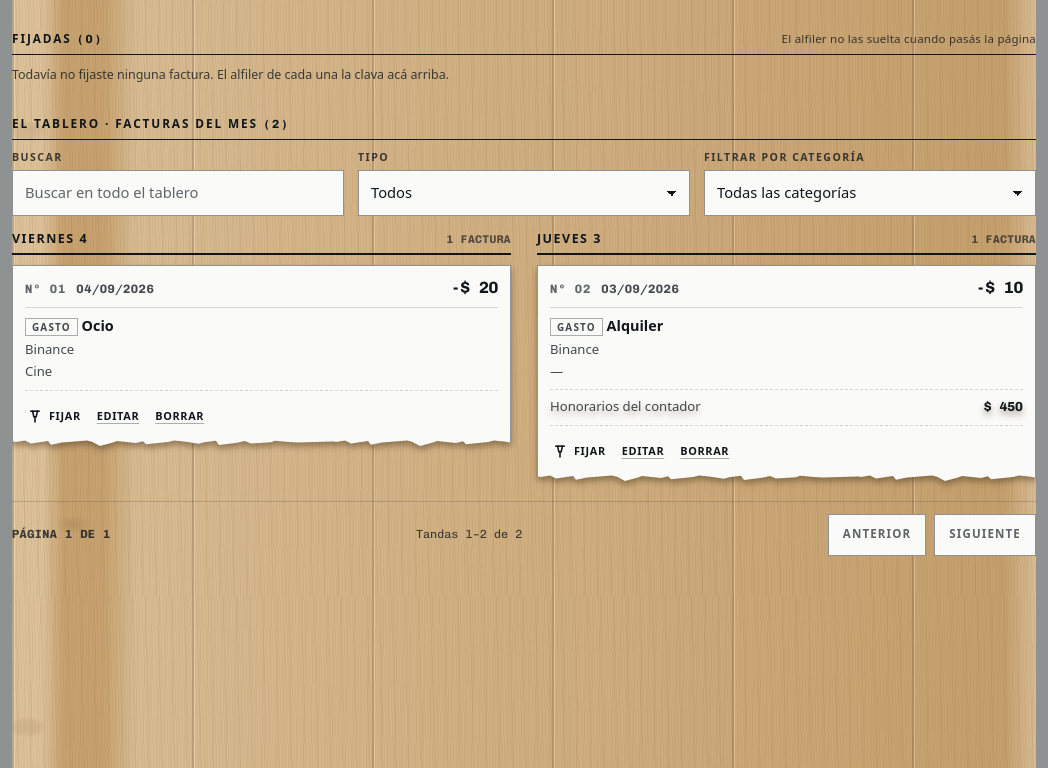
Test case: Board › finds a factura by the description of one of its detail lines
The image size is (1048, 768).
Type "contador" into the search field labelled "Buscar" at x=178, y=193, box left=12, top=170, right=344, bottom=216
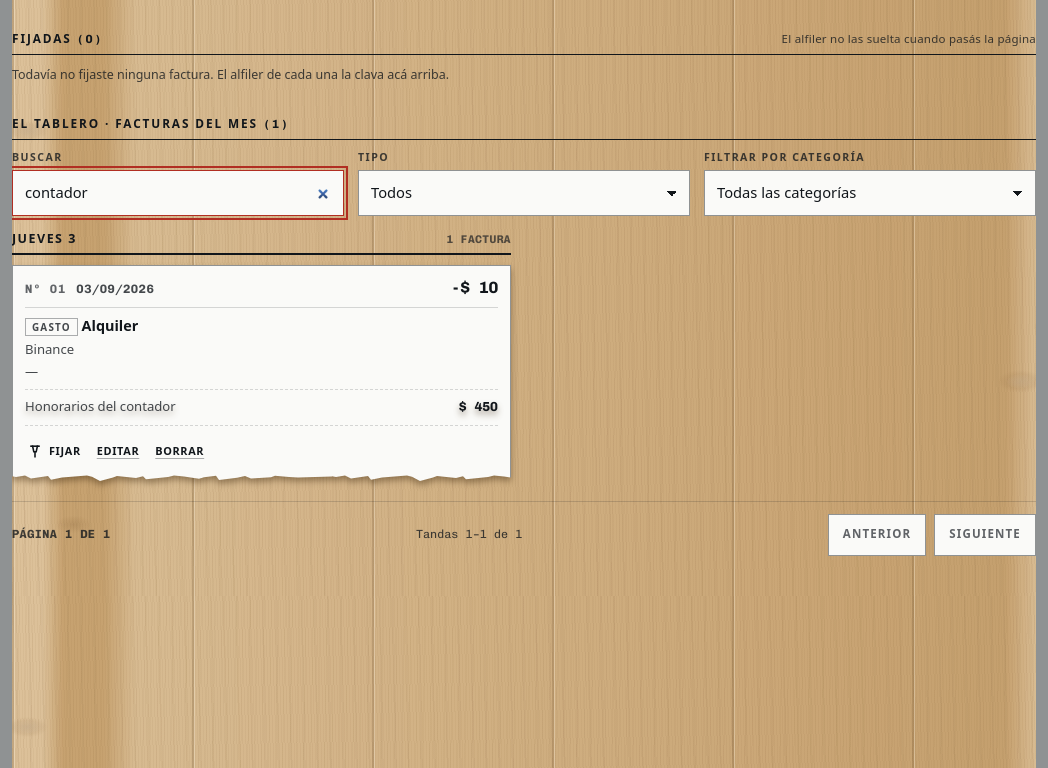
Check: the text "Honorarios del contador" is shown, box left=25, top=397, right=176, bottom=416
Check: the text "Ocio" is gone
